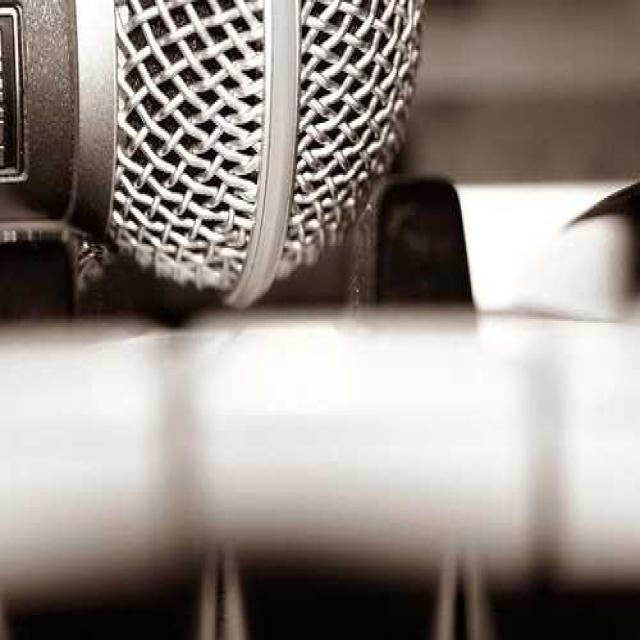microphone: (16, 4, 432, 307)
